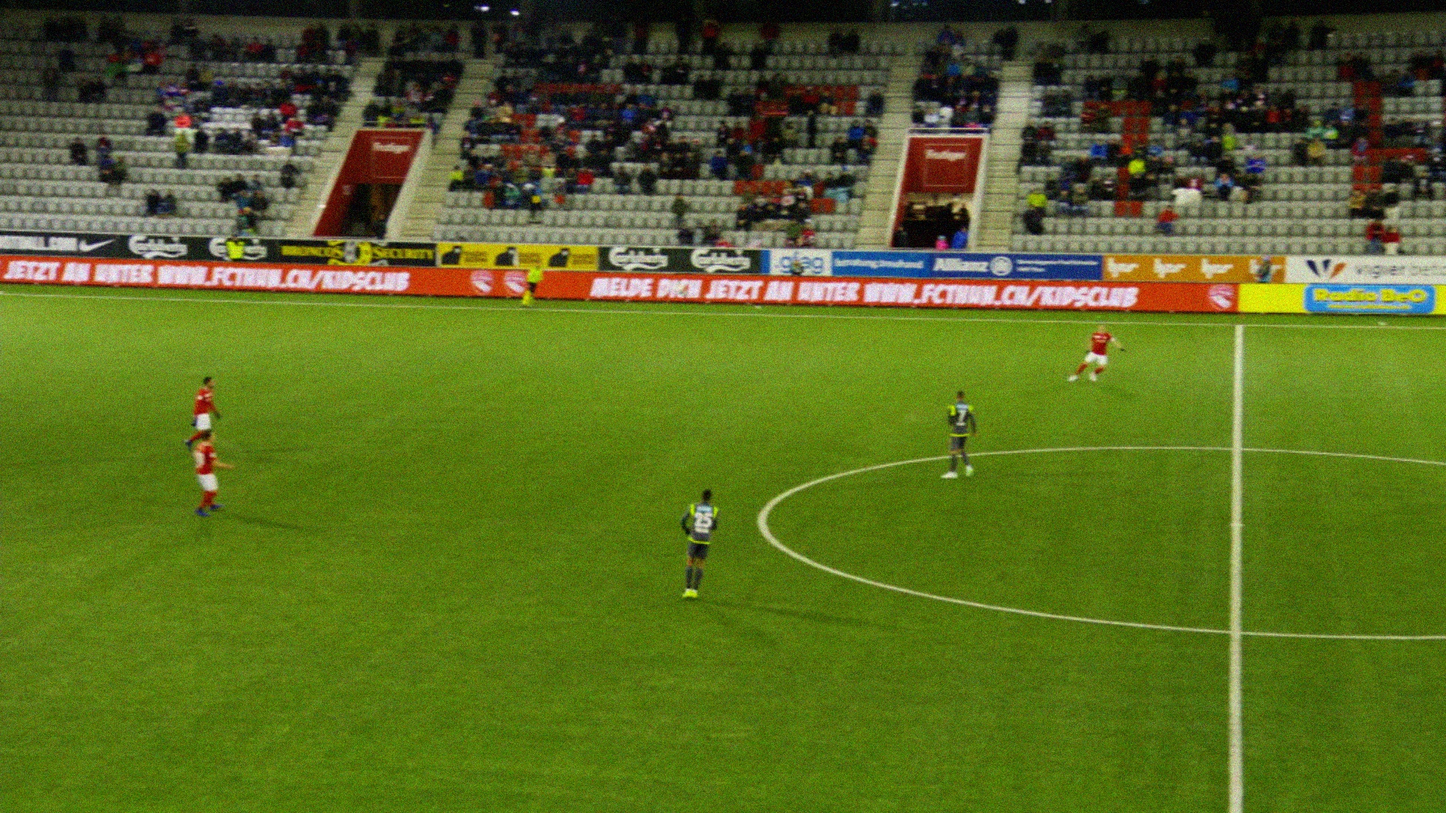ball: (659, 289, 676, 301)
player: (677, 488, 728, 602), (200, 427, 248, 518), (184, 374, 233, 455), (1073, 321, 1134, 385), (946, 388, 986, 481)
referee: (523, 257, 556, 309)
